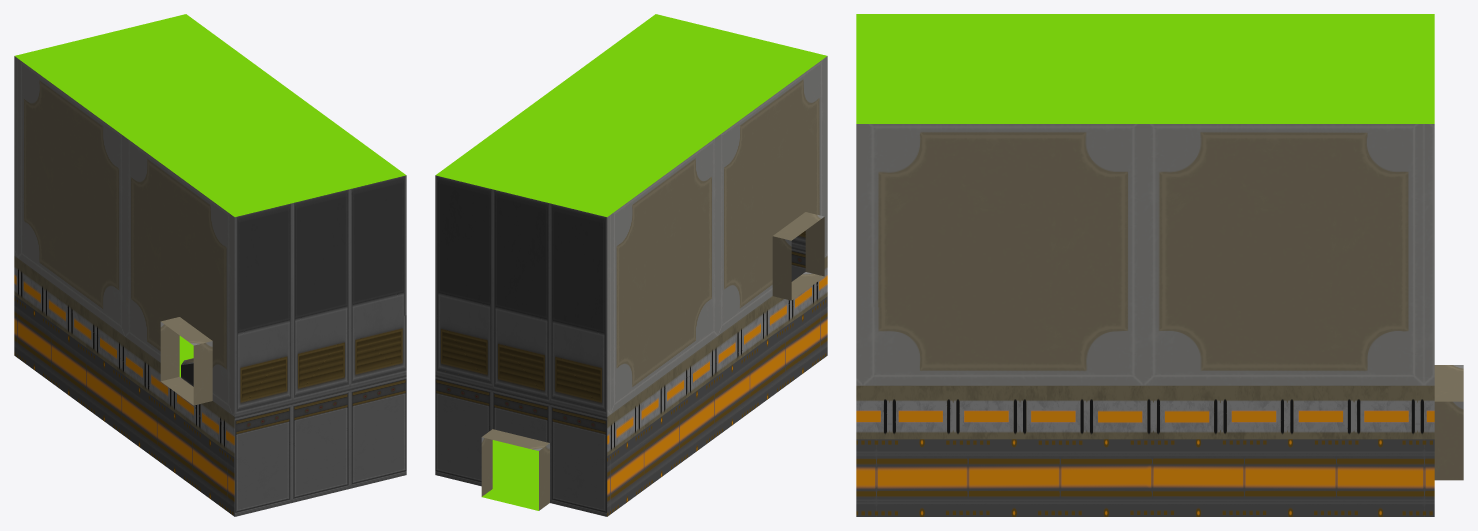
The model's file is THE_ROOM_CORNEER.fbx.
The picture shows the model from 3 angles, left to right: view 1: azimuth 30°, elevation 25°; view 2: azimuth 150°, elevation 25°; view 3: azimuth 270°, elevation 25°; orthographic projection. The views are drawn at different scales.
Parts seen in each view (by area): view 1: base_room; view 2: base_room; view 3: base_room.
Part boxes in pixels (x1,y1,x2,y2): base_room: (14, 14, 406, 516); base_room: (435, 14, 827, 516); base_room: (856, 14, 1463, 516).
Size of the model in its own units: 10 by 15 by 21.
2 materials, 1 textured.
